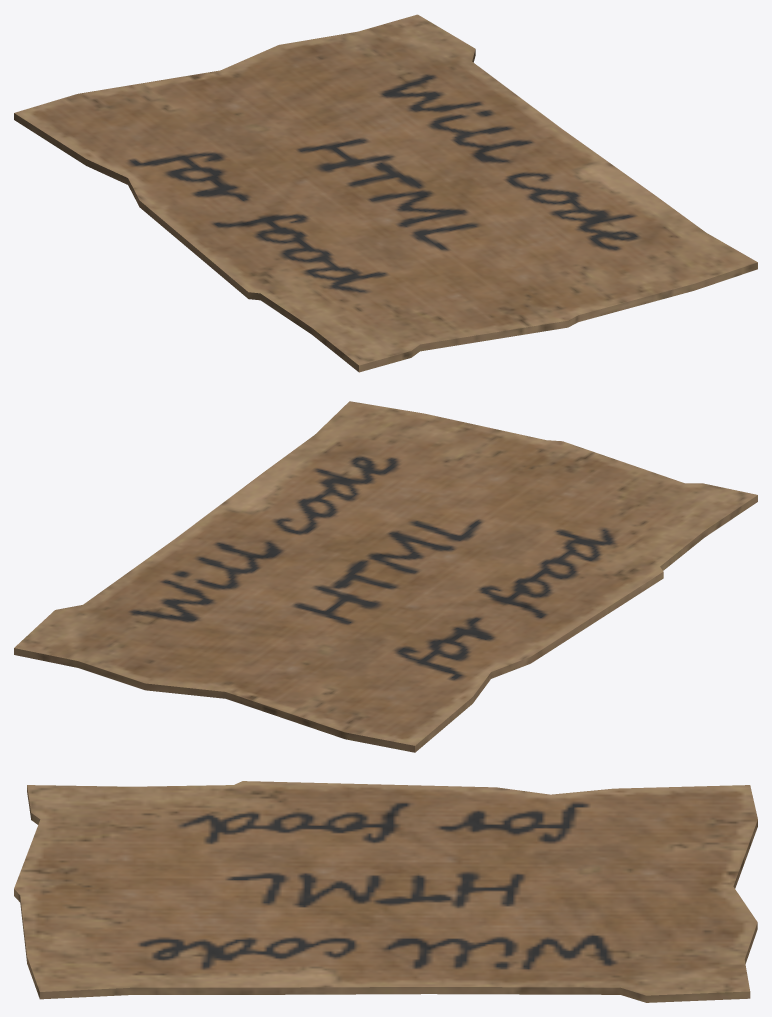
File: MB_Carton_01.fbx
3 renders of one model, top to bottom at view 1: azimuth 30°, elevation 25°; view 2: azimuth 150°, elevation 25°; view 3: azimuth 270°, elevation 25°, orthographic. The views are drawn at different scales.
Parts seen in each view (by area): view 1: MB_Carton_01; view 2: MB_Carton_01; view 3: MB_Carton_01.
Boxes of the visible parts, x1,y1,x2,y2 form: MB_Carton_01: (14,14,757,372); MB_Carton_01: (14,401,757,752); MB_Carton_01: (14,781,757,1002).
Size of the model in its own units: 43.26 by 0.6826 by 63.37.
